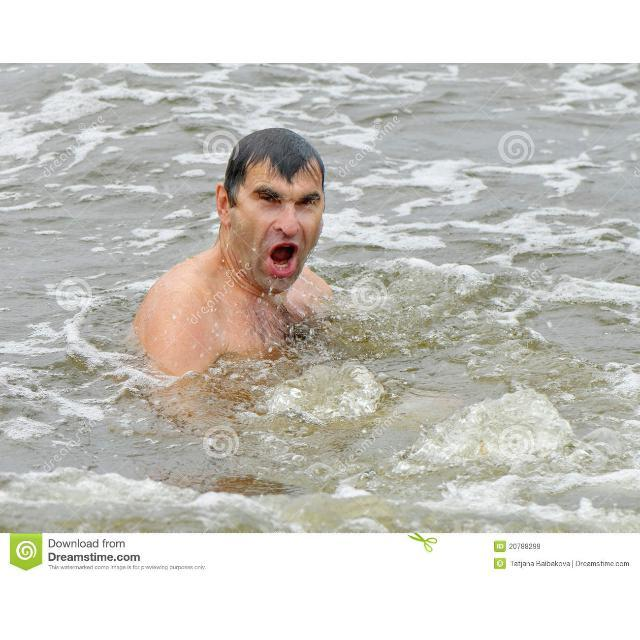human: (135, 128, 339, 372)
